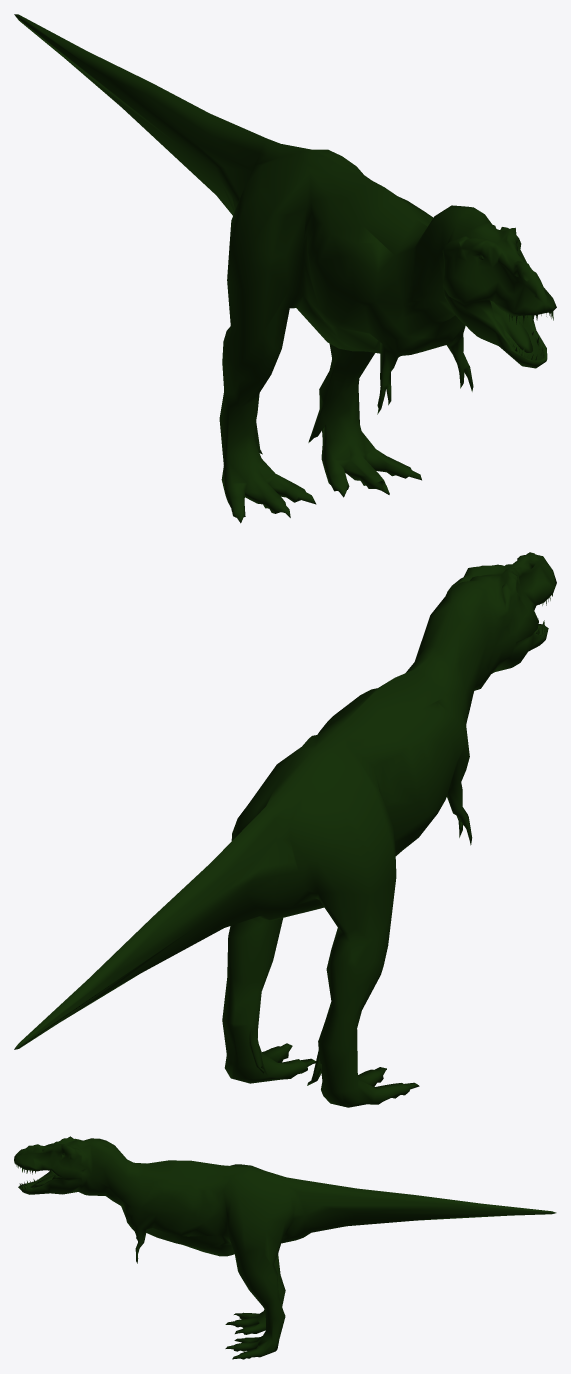
The model's file is Dinosaur 1.FBX.
3 views of the same model, one above another, from view 1: azimuth 30°, elevation 25°; view 2: azimuth 150°, elevation 25°; view 3: azimuth 270°, elevation 25° (orthographic). The views are drawn at different scales.
Visible parts, largest first — view 1: dinosaur 1; view 2: dinosaur 1; view 3: dinosaur 1.
Boxes of the visible parts, left/top/right/bottom form: dinosaur 1: left=14, top=14, right=556, bottom=523; dinosaur 1: left=14, top=552, right=556, bottom=1107; dinosaur 1: left=14, top=1136, right=556, bottom=1359.
Bounding box in the file's own units: 12.1 × 62.55 × 25.36.
